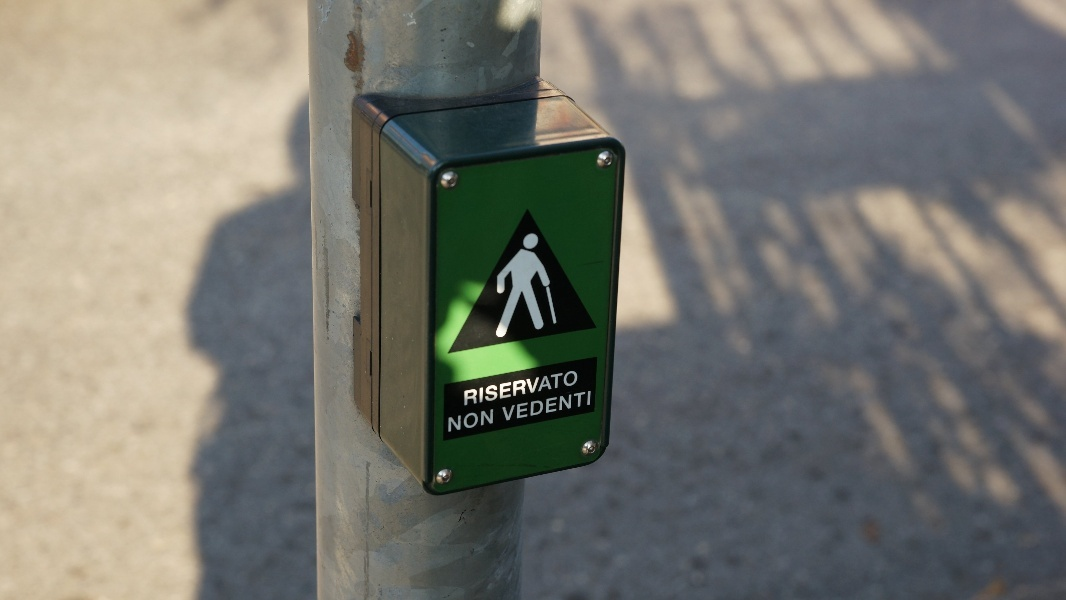text: (465, 369, 480, 409), (481, 369, 496, 409), (497, 369, 512, 409), (513, 369, 528, 409), (529, 369, 544, 409), (545, 369, 560, 409), (561, 369, 576, 409), (577, 390, 593, 425), (513, 390, 528, 425), (529, 390, 544, 425), (545, 390, 560, 425), (561, 390, 576, 425), (449, 407, 464, 435), (465, 407, 480, 435), (481, 407, 496, 435), (500, 390, 512, 425), (460, 369, 464, 409), (577, 369, 581, 409), (447, 407, 448, 435)
